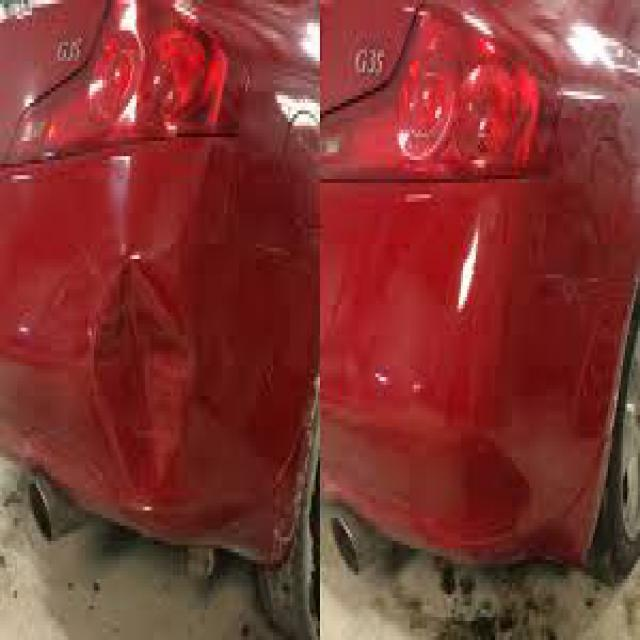rear-bumper-dent: (0, 103, 314, 579)
